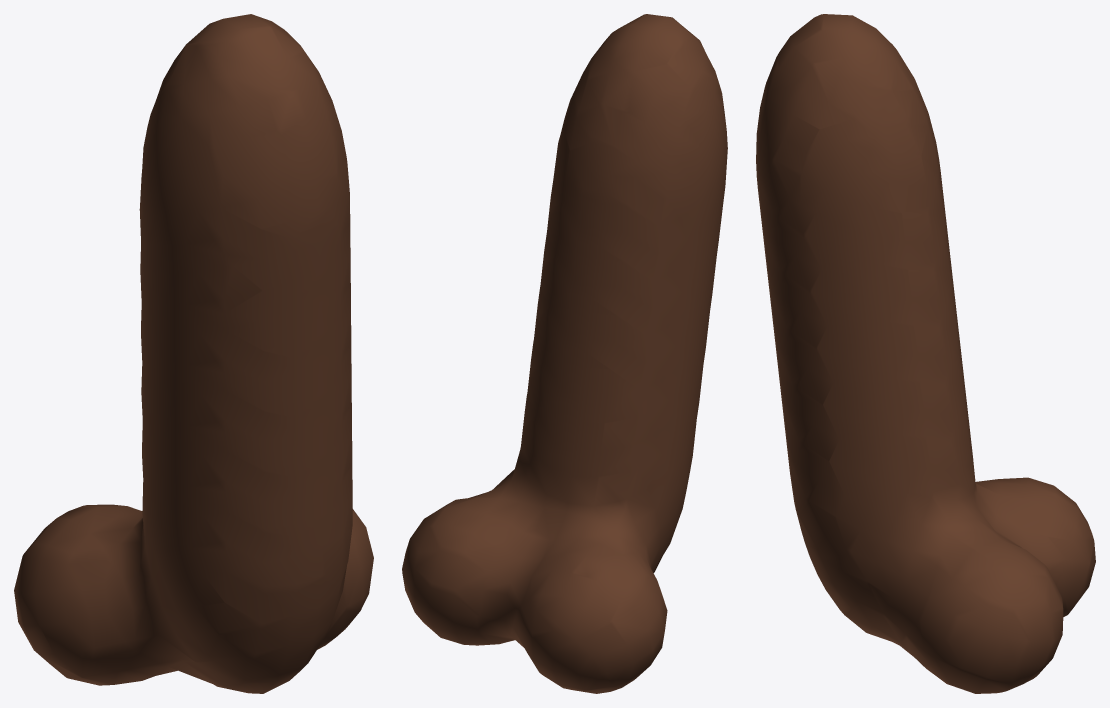
3 renders of one model, left to right at view 1: azimuth 30°, elevation 25°; view 2: azimuth 150°, elevation 25°; view 3: azimuth 270°, elevation 25°, orthographic. The views are drawn at different scales.
Parts seen in each view (by area): view 1: Mball; view 2: Mball; view 3: Mball.
Part boxes in pixels (box(x1,y1,x2,y2)): Mball: box(14, 14, 373, 693); Mball: box(402, 14, 727, 693); Mball: box(756, 14, 1095, 693).
Size of the model in its own units: 455 by 1002 by 498.
